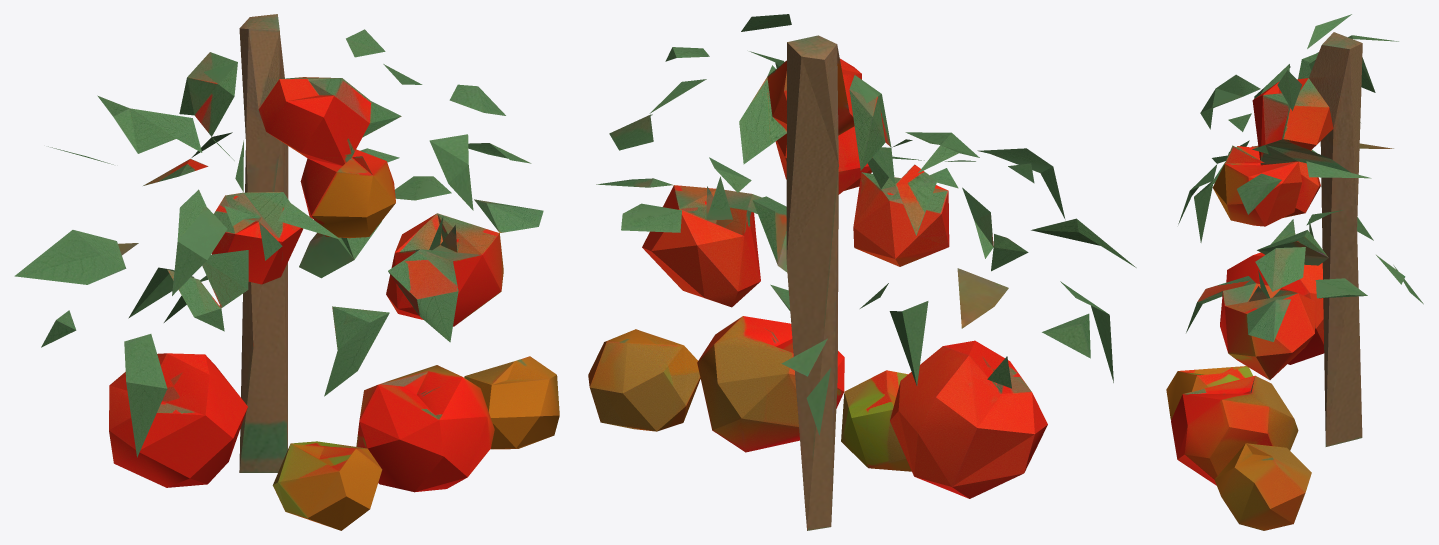
The model's file is tomato_plants_on_stakes.glb.
3 renders of one model, left to right at view 1: azimuth 30°, elevation 25°; view 2: azimuth 150°, elevation 25°; view 3: azimuth 270°, elevation 25°, orthographic. The views are drawn at different scales.
Size of the model in its own units: 1.9 by 1.54 by 0.9006.
Materials: 1 (1 with a texture image).
